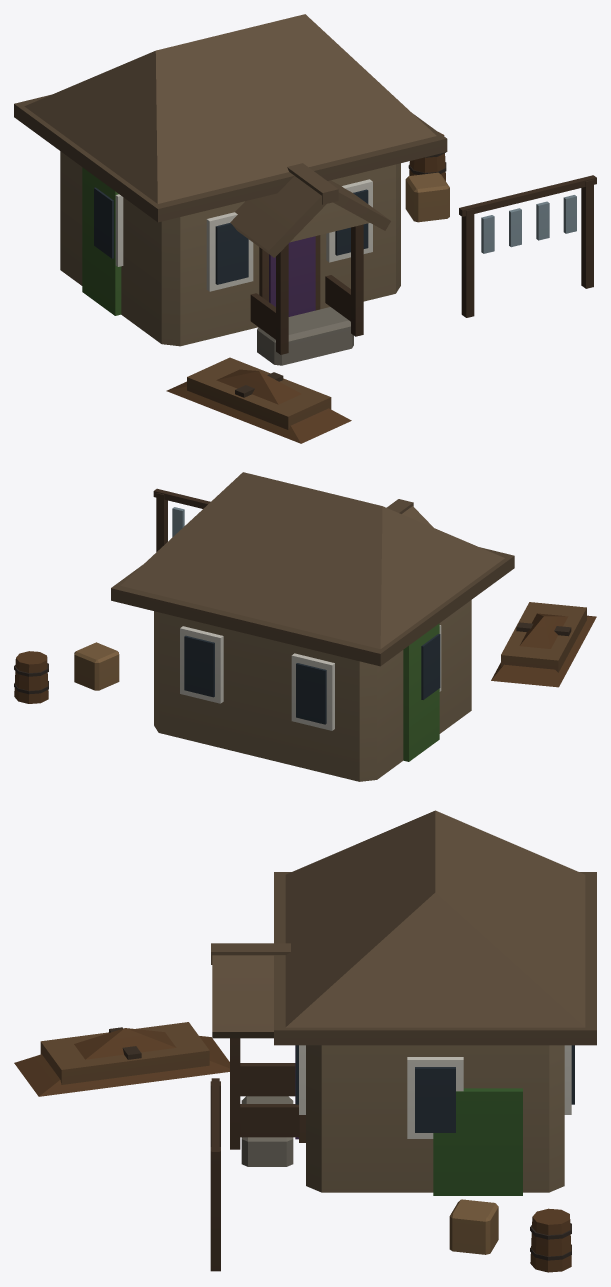
Rendered from fishery.glb.
3 renders of one model, top to bottom at view 1: azimuth 30°, elevation 25°; view 2: azimuth 150°, elevation 25°; view 3: azimuth 270°, elevation 25°, orthographic. The views are drawn at different scales.
Parts seen in each view (by area): view 1: fishery_model; view 2: fishery_model; view 3: fishery_model.
Boxes of the visible parts, x1,y1,x2,y2 form: fishery_model: [14, 14, 596, 443]; fishery_model: [14, 472, 596, 781]; fishery_model: [14, 810, 596, 1272].
Bounding box in the file's own units: 0.8432 × 0.4891 × 0.8799.
